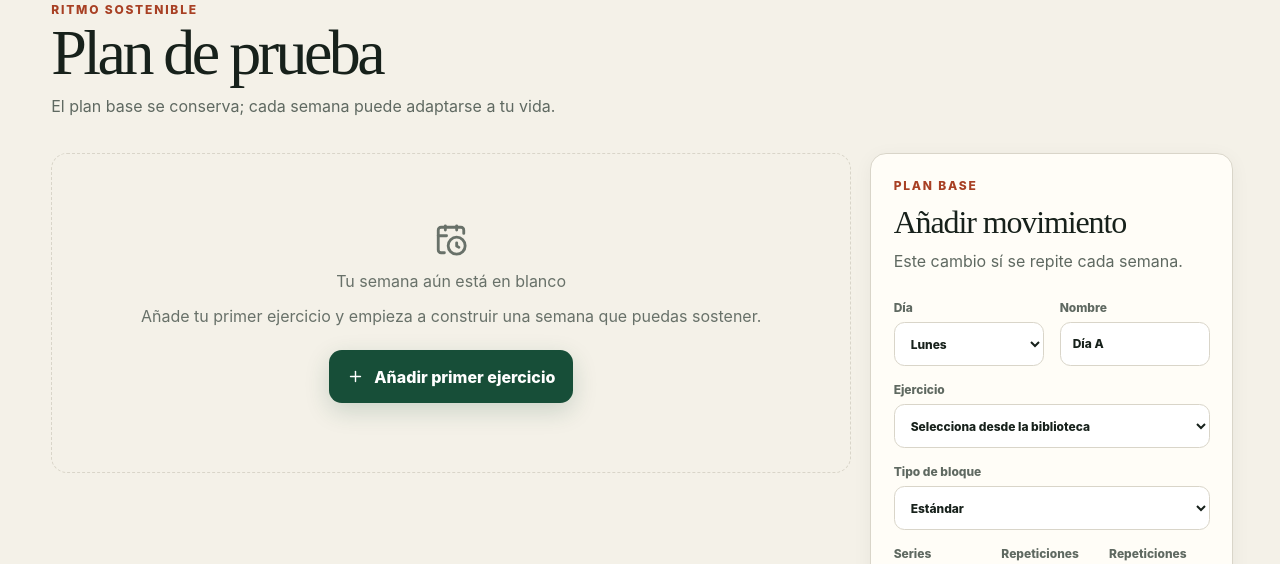
Test case: PlanPage interaction and scheduling › disables both forms while saving and prevents duplicate submissions
This screenshot has width=1280, height=564.
Select "Press de banca" in the dropdown labelled "Ejercicio": [1052, 426] box [894,404,1210,448]
(page scrolled)
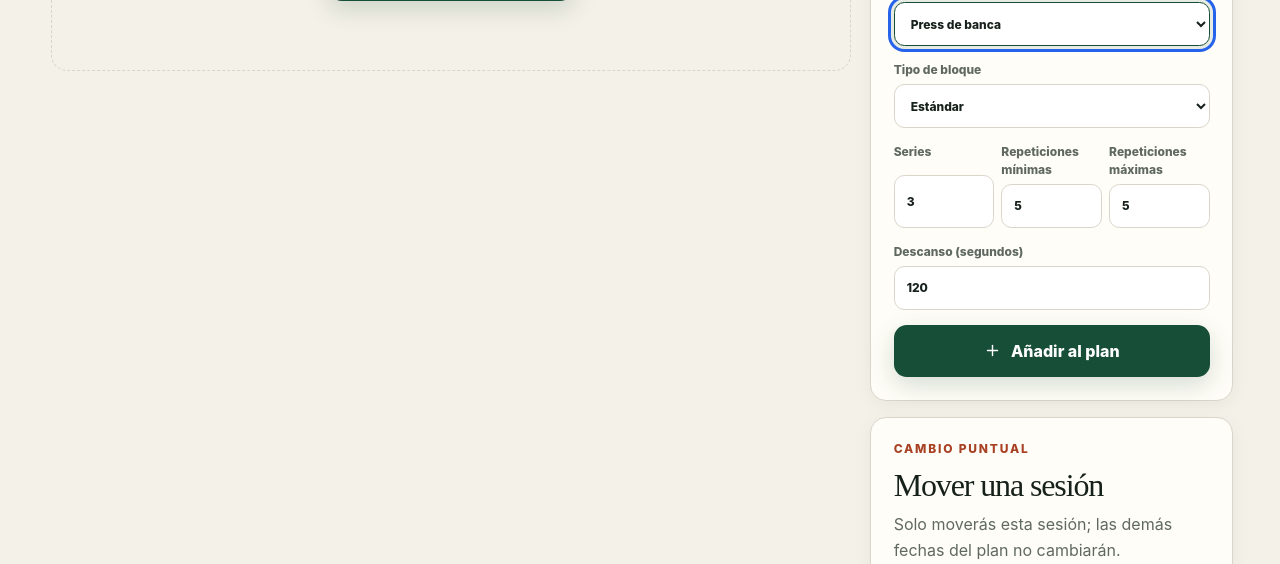
Click the button "Añadir al plan": [1052, 351] box [894,324,1210,377]
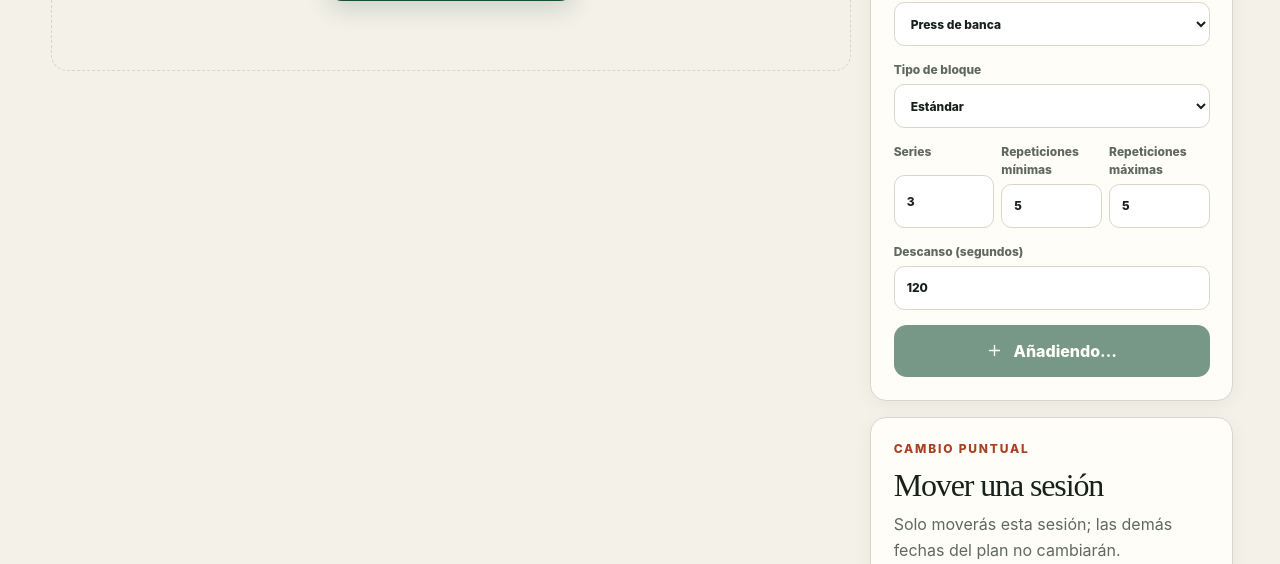
Expected: the button "Añadiendo…" is disabled
Click the button "Añadiendo…": [1052, 351] box [894,324,1210,377]
(page scrolled)
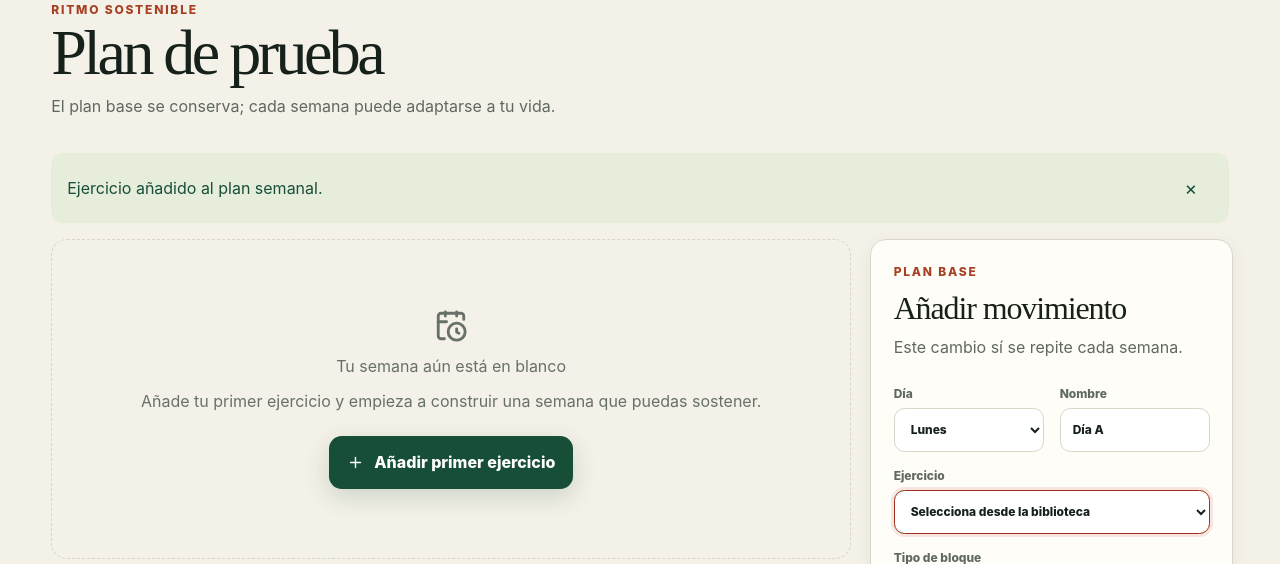
Expected: the message shows "Ejercicio añadido al plan semanal.", [67,178,323,198]
